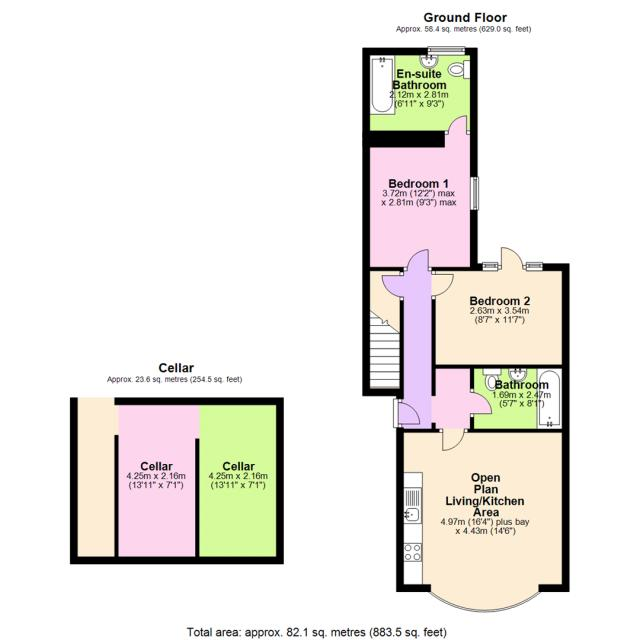DOOR: (393, 399, 421, 428), (439, 428, 468, 452), (470, 388, 493, 418), (380, 272, 404, 300), (404, 248, 432, 271), (431, 271, 454, 299), (500, 246, 525, 270), (445, 113, 470, 134)
ROOM: (396, 429, 570, 620), (361, 111, 478, 271), (432, 243, 570, 368)
WINDOW: (427, 588, 545, 614), (425, 44, 468, 58), (469, 175, 481, 212), (480, 261, 499, 272), (525, 261, 544, 272)
